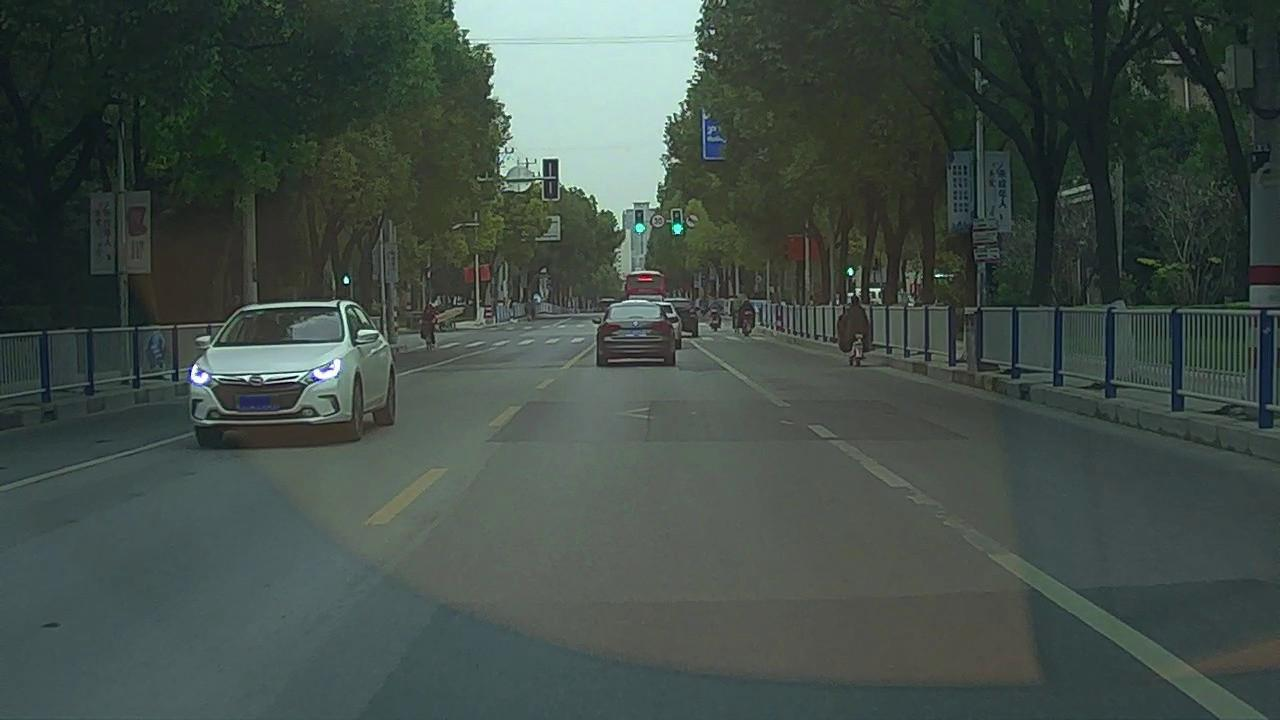traffic_light: (672, 208, 683, 235), (634, 210, 643, 233)
